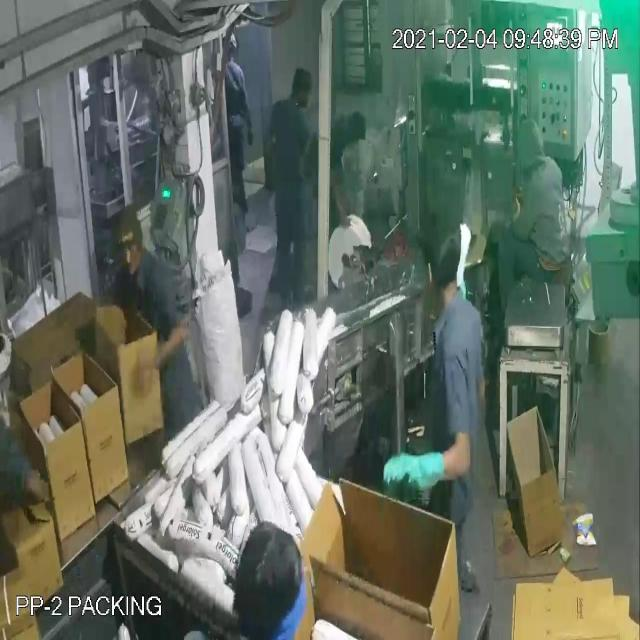No_Gloves: (28, 78, 409, 474)
